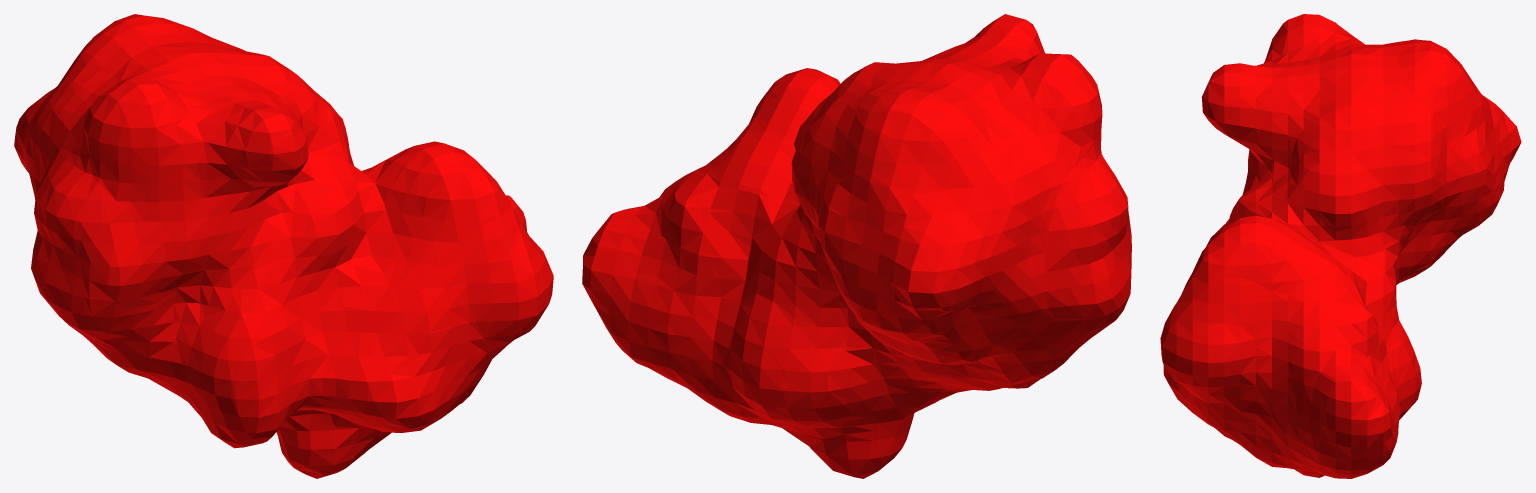
Rendered from trxB_coarse.dae.
3 views of the same model, side by side, from view 1: azimuth 30°, elevation 25°; view 2: azimuth 150°, elevation 25°; view 3: azimuth 270°, elevation 25° (orthographic). The views are drawn at different scales.
Parts seen in each view (by area): view 1: trxB; view 2: trxB; view 3: trxB.
Part boxes in pixels (box(x1,y1,x2,y2)): trxB: box(14, 14, 553, 478); trxB: box(582, 14, 1131, 478); trxB: box(1160, 14, 1521, 478).
Bounding box in the file's own units: 70.45 × 59.99 × 51.55.
